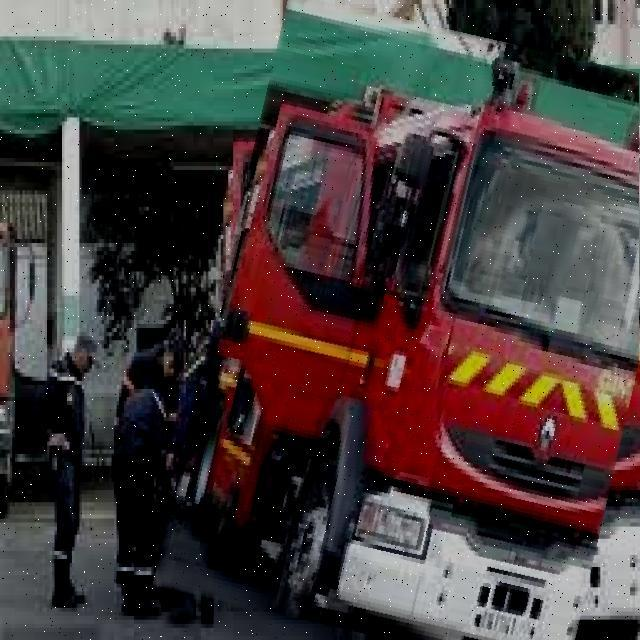pompier: (184, 12, 640, 640)
